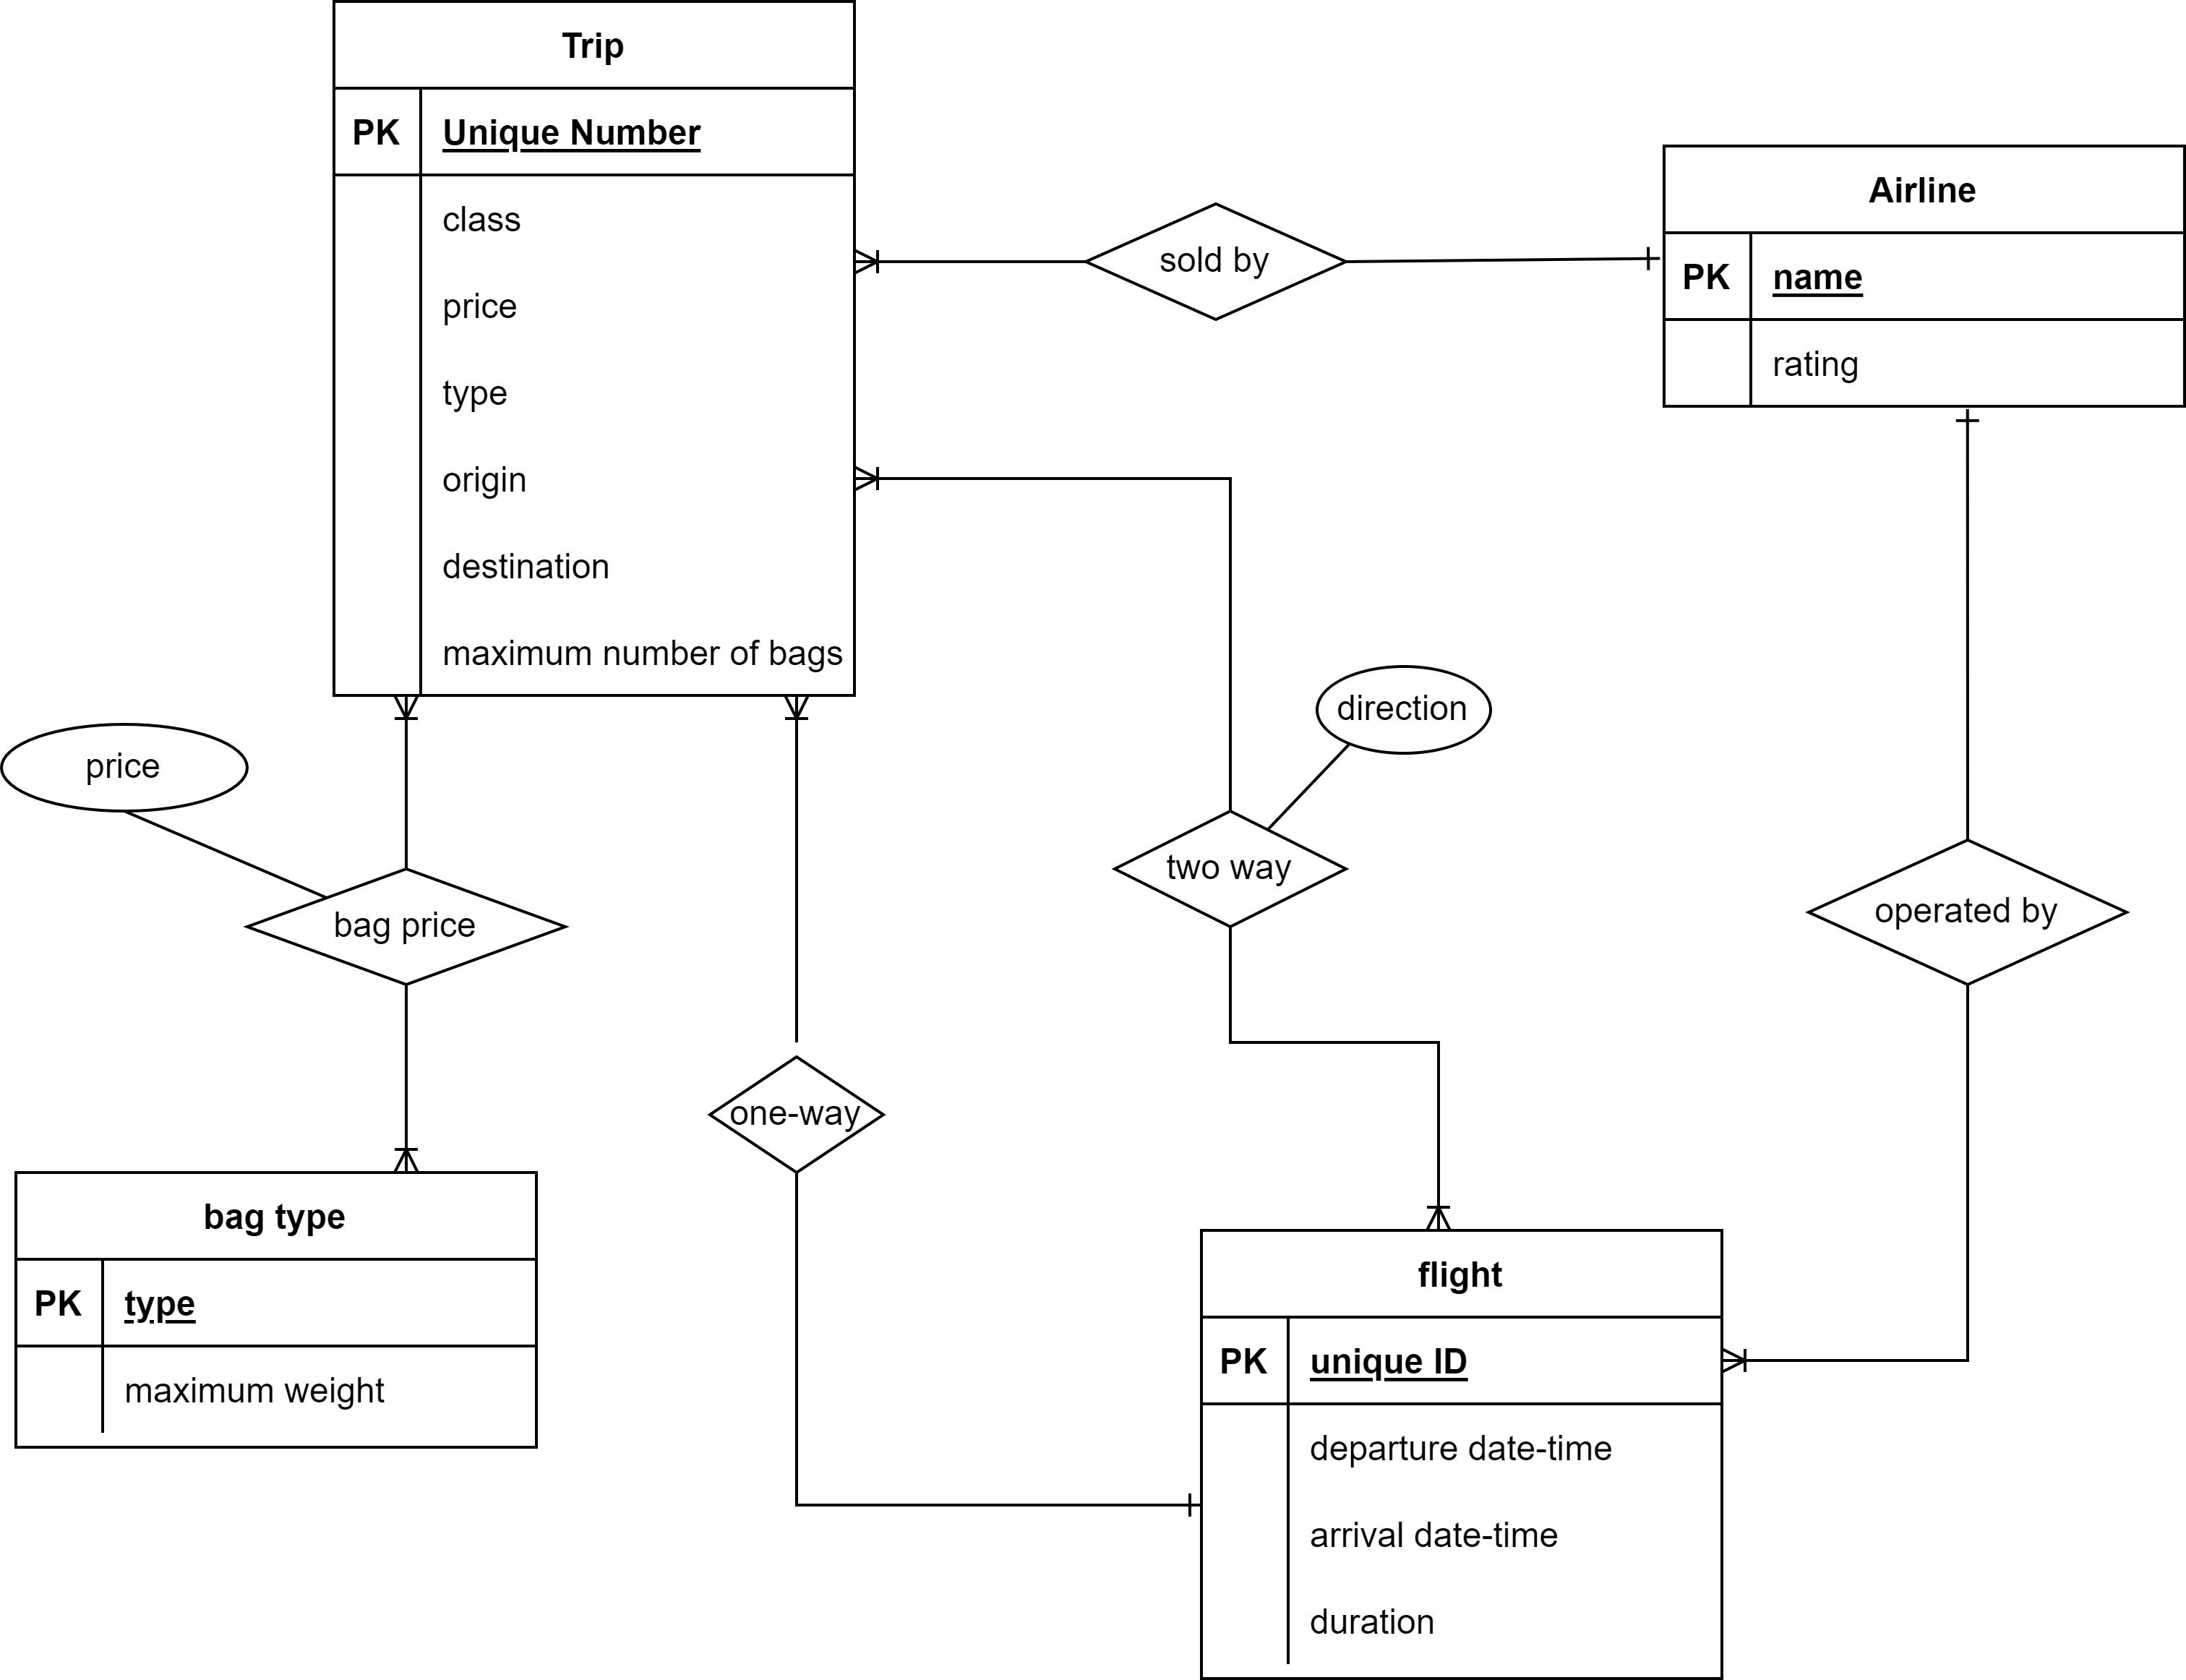attribute: (4, 722, 243, 815), (1318, 664, 1493, 752)
entity: (337, 0, 859, 702), (1198, 1223, 1722, 1680), (11, 1166, 542, 1451), (1662, 139, 2186, 411)
relationship: (1800, 840, 2131, 988), (249, 872, 565, 981), (1094, 201, 1344, 321), (1112, 815, 1348, 925), (709, 1057, 887, 1168)
